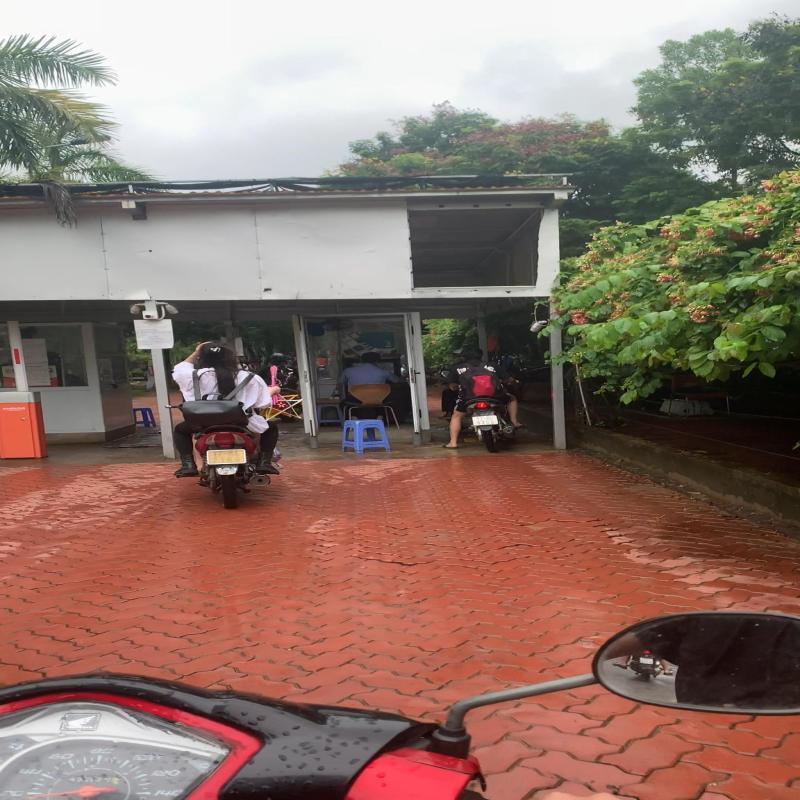licenseplate: (204, 448, 250, 466)
motorcyclist: (165, 338, 295, 510)
nohelmet: (192, 340, 241, 366), (458, 345, 485, 360)
